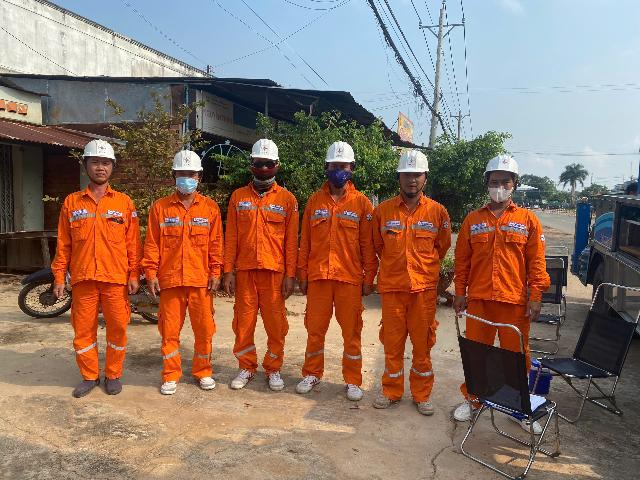helmet: (481, 150, 526, 179), (237, 133, 283, 161), (74, 136, 120, 163), (159, 151, 204, 175), (396, 148, 432, 178), (322, 137, 356, 167)
shoes: (67, 367, 101, 398), (508, 409, 545, 437), (458, 390, 484, 422), (373, 382, 401, 411), (227, 365, 255, 389), (100, 371, 126, 396), (407, 394, 434, 417), (153, 373, 181, 394), (341, 377, 361, 402), (297, 374, 321, 394), (265, 366, 283, 391), (195, 373, 214, 392)
